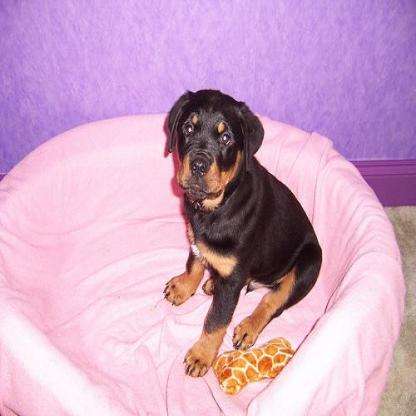Rottweiler: (163, 89, 322, 378)
